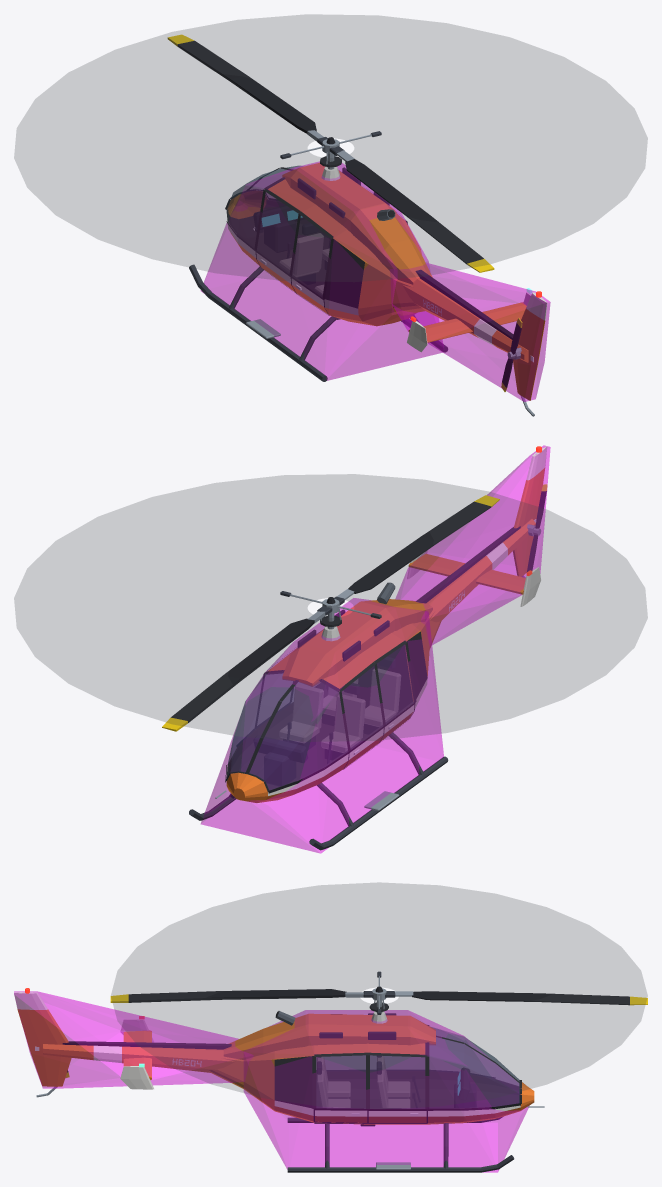
Rendered from heli_civil.glb.
3 renders of one model, top to bottom at view 1: azimuth 30°, elevation 25°; view 2: azimuth 150°, elevation 25°; view 3: azimuth 270°, elevation 25°, orthographic. The views are drawn at different scales.
Parts seen in each view (by area): view 1: RotorBlur_Main, Body, Col_Body, Col_Tail, Rotor_Main, Glass_L, Glass_RL, Glass_Windshield; view 2: RotorBlur_Main, Col_Body, Body, Col_Tail, Glass_Windshield, Rotor_Main, Glass_L, Glass_RL; view 3: RotorBlur_Main, Col_Body, Body, Col_Tail, Glass_Windshield, Rotor_Main, Glass_R, Glass_RR, Door_FR, Door_RR, Door_FL, Door_RL.
Part boxes in pixels (bbox=[...]): RotorBlur_Main: bbox=[14, 14, 647, 281]; Body: bbox=[189, 152, 547, 416]; Col_Body: bbox=[200, 161, 443, 380]; Col_Tail: bbox=[390, 263, 550, 401]; Rotor_Main: bbox=[167, 34, 494, 272]; Glass_L: bbox=[257, 193, 297, 273]; Glass_RL: bbox=[292, 216, 330, 296]; Glass_Windshield: bbox=[227, 165, 302, 247]; RotorBlur_Main: bbox=[14, 474, 647, 741]; Col_Body: bbox=[201, 598, 443, 853]; Body: bbox=[189, 446, 547, 850]; Col_Tail: bbox=[395, 445, 550, 644]; Glass_Windshield: bbox=[226, 672, 347, 790]; Rotor_Main: bbox=[162, 495, 499, 731]; Glass_L: bbox=[342, 666, 382, 749]; Glass_RL: bbox=[377, 645, 413, 723]; RotorBlur_Main: bbox=[111, 882, 647, 1108]; Col_Body: bbox=[244, 1010, 529, 1172]; Body: bbox=[14, 988, 544, 1172]; Col_Tail: bbox=[14, 991, 252, 1088]; Glass_Windshield: bbox=[427, 1027, 520, 1108]; Rotor_Main: bbox=[110, 971, 647, 1014]; Glass_R: bbox=[370, 1055, 424, 1108]; Glass_RR: bbox=[316, 1055, 365, 1108]; Door_FR: bbox=[368, 1108, 426, 1122]; Door_RR: bbox=[315, 1108, 367, 1122]; Door_FL: bbox=[370, 1071, 424, 1088]; Door_RL: bbox=[316, 1071, 365, 1088].
Bounding box in the file's own units: 9.5 × 3.12 × 11.21.
